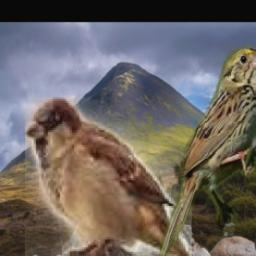Sparrow: (26, 97, 193, 256), (157, 46, 256, 256)
